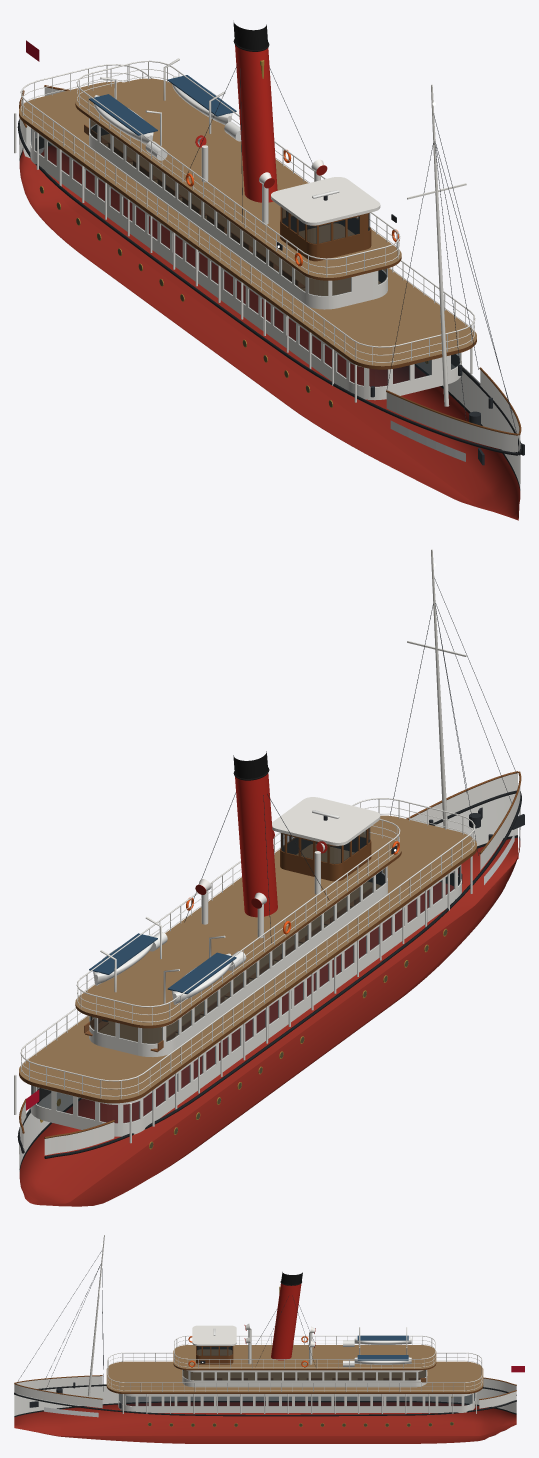
Rendered from ferry_steamer.glb.
3 renders of one model, top to bottom at view 1: azimuth 30°, elevation 25°; view 2: azimuth 150°, elevation 25°; view 3: azimuth 270°, elevation 25°, orthographic. The views are drawn at different scales.
Visible parts, largest first — view 1: Body, Trim; view 2: Body; view 3: Body, Trim.
Part boxes in pixels (x1,y1,x2,y2): Body: [14, 22, 524, 520]; Trim: [390, 420, 465, 461]; Body: [14, 549, 524, 1206]; Body: [14, 1235, 516, 1443]; Trim: [44, 1407, 98, 1417].
Size of what is drawn, in the model's own units: 7.53 by 22.6 by 52.1.
